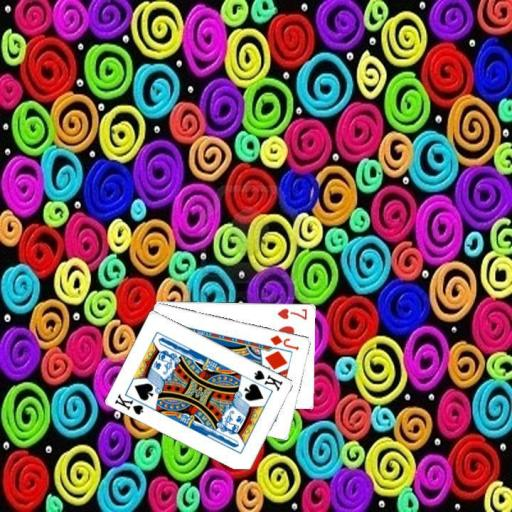7H: (275, 305, 309, 321)
JD: (267, 332, 301, 352)
KS: (112, 390, 151, 416), (251, 367, 284, 392)
